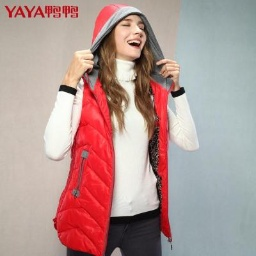face: (98, 10, 160, 108)
